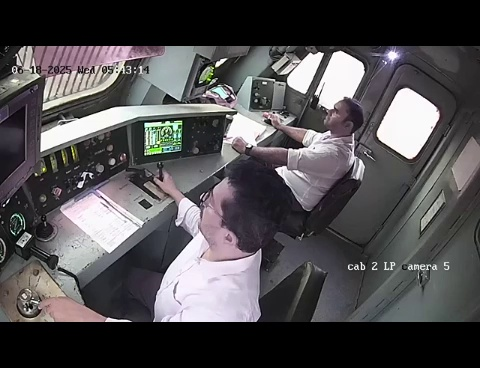brake_applied: (3, 264, 111, 323)
horn_inactive: (20, 202, 67, 245)
